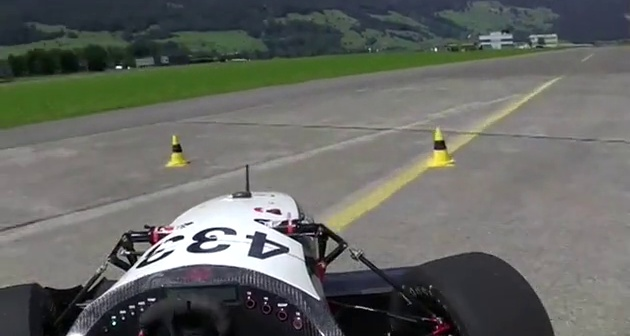Cone: (427, 126, 456, 169), (163, 134, 190, 168)
